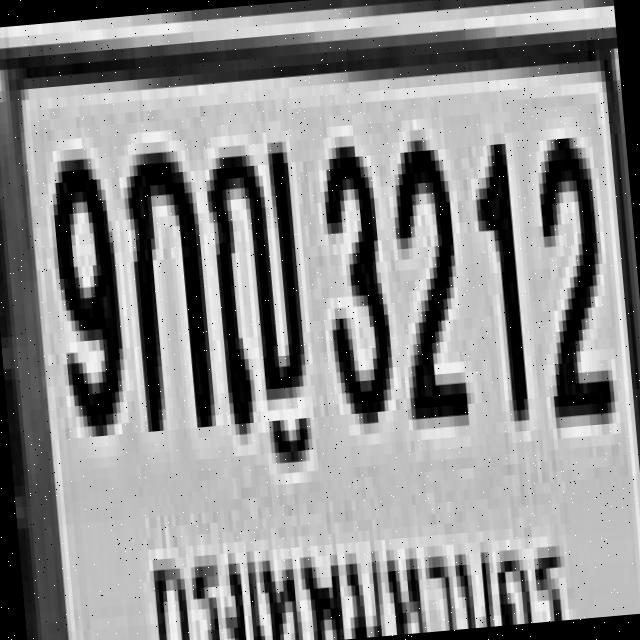1: (466, 133, 524, 412)
10GorGai: (120, 139, 212, 421)
2: (526, 125, 611, 418), (384, 128, 464, 420)
22YorYing: (200, 130, 308, 424)
3: (312, 134, 392, 415)
9: (44, 146, 124, 428)
Bangkok: (142, 508, 572, 640)
